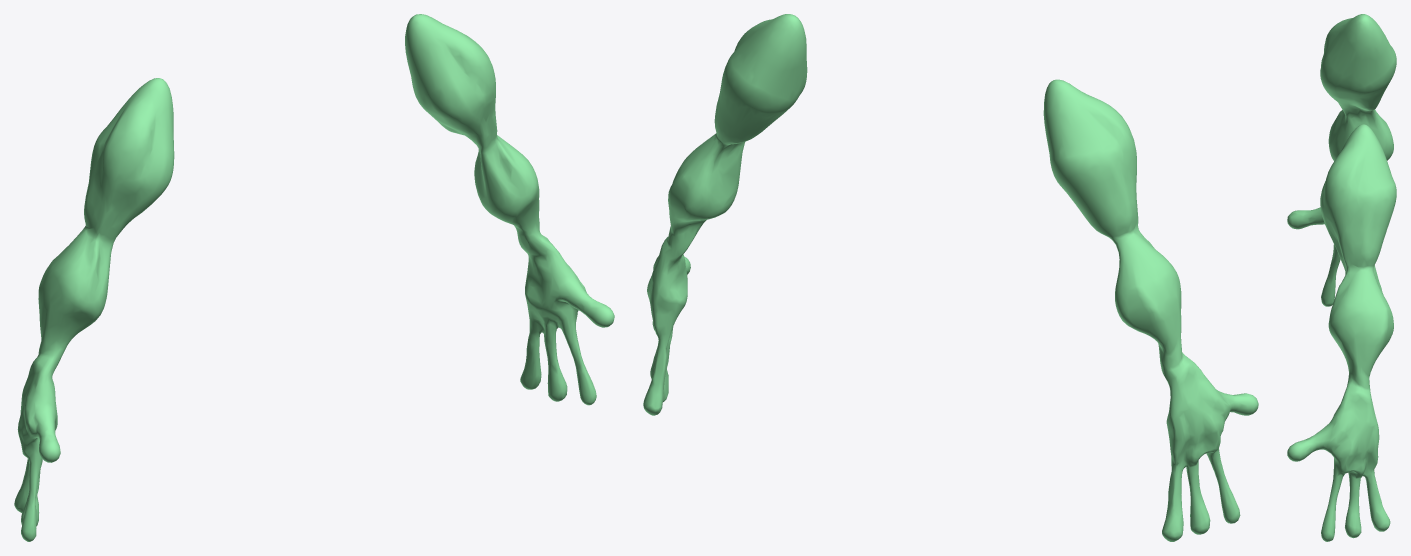
Rendered from FrogArms_Decimate.fbx.
3 renders of one model, left to right at view 1: azimuth 30°, elevation 25°; view 2: azimuth 150°, elevation 25°; view 3: azimuth 270°, elevation 25°, orthographic. The views are drawn at different scales.
Visible parts, largest first — view 1: PM3D_FrogArms; view 2: PM3D_FrogArms; view 3: PM3D_FrogArms.
Boxes of the visible parts, <box> form: PM3D_FrogArms: <box>14,14,614,541</box>; PM3D_FrogArms: <box>643,14,1258,541</box>; PM3D_FrogArms: <box>1287,14,1396,541</box>.
Bounding box in the file's own units: 1.19 × 0.8197 × 0.2279.
